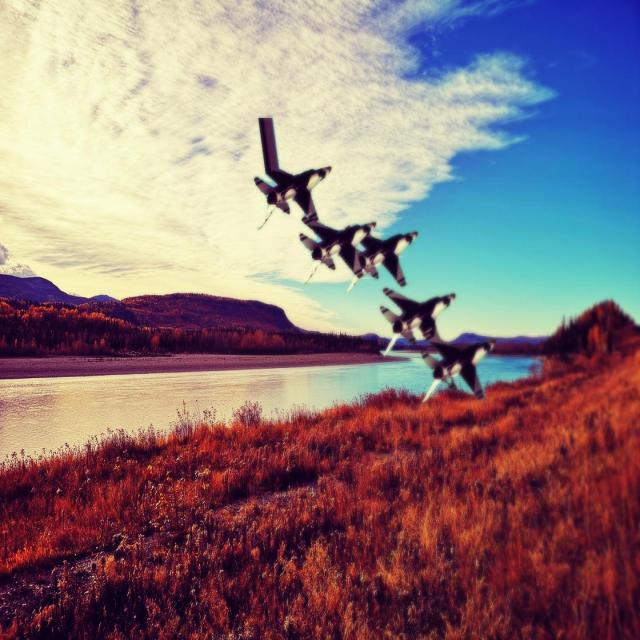airplane: (254, 116, 332, 229), (379, 287, 456, 357), (418, 339, 494, 401), (302, 213, 374, 276), (359, 230, 418, 287)
